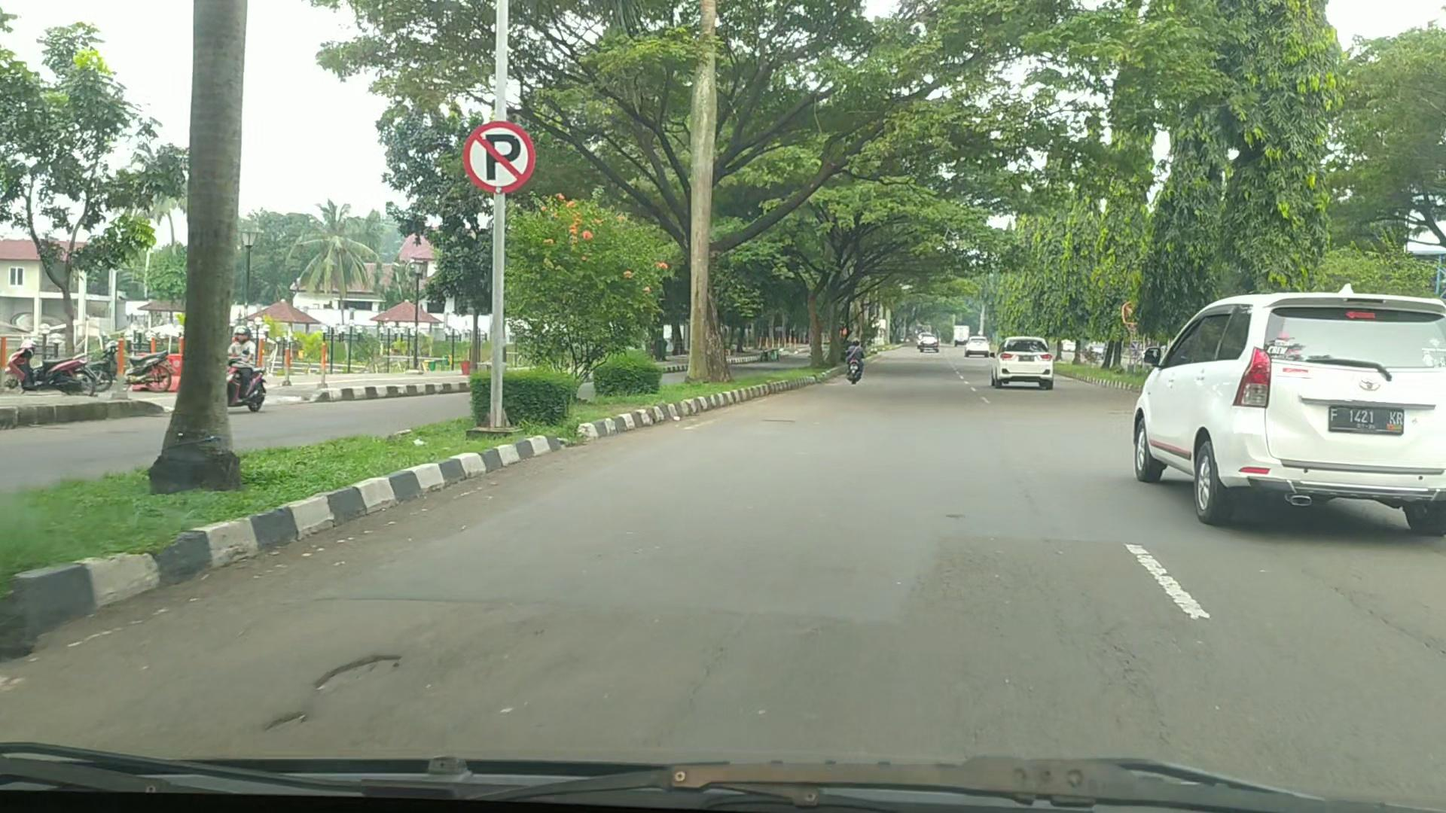pothole: (312, 651, 405, 693), (261, 712, 307, 732)
